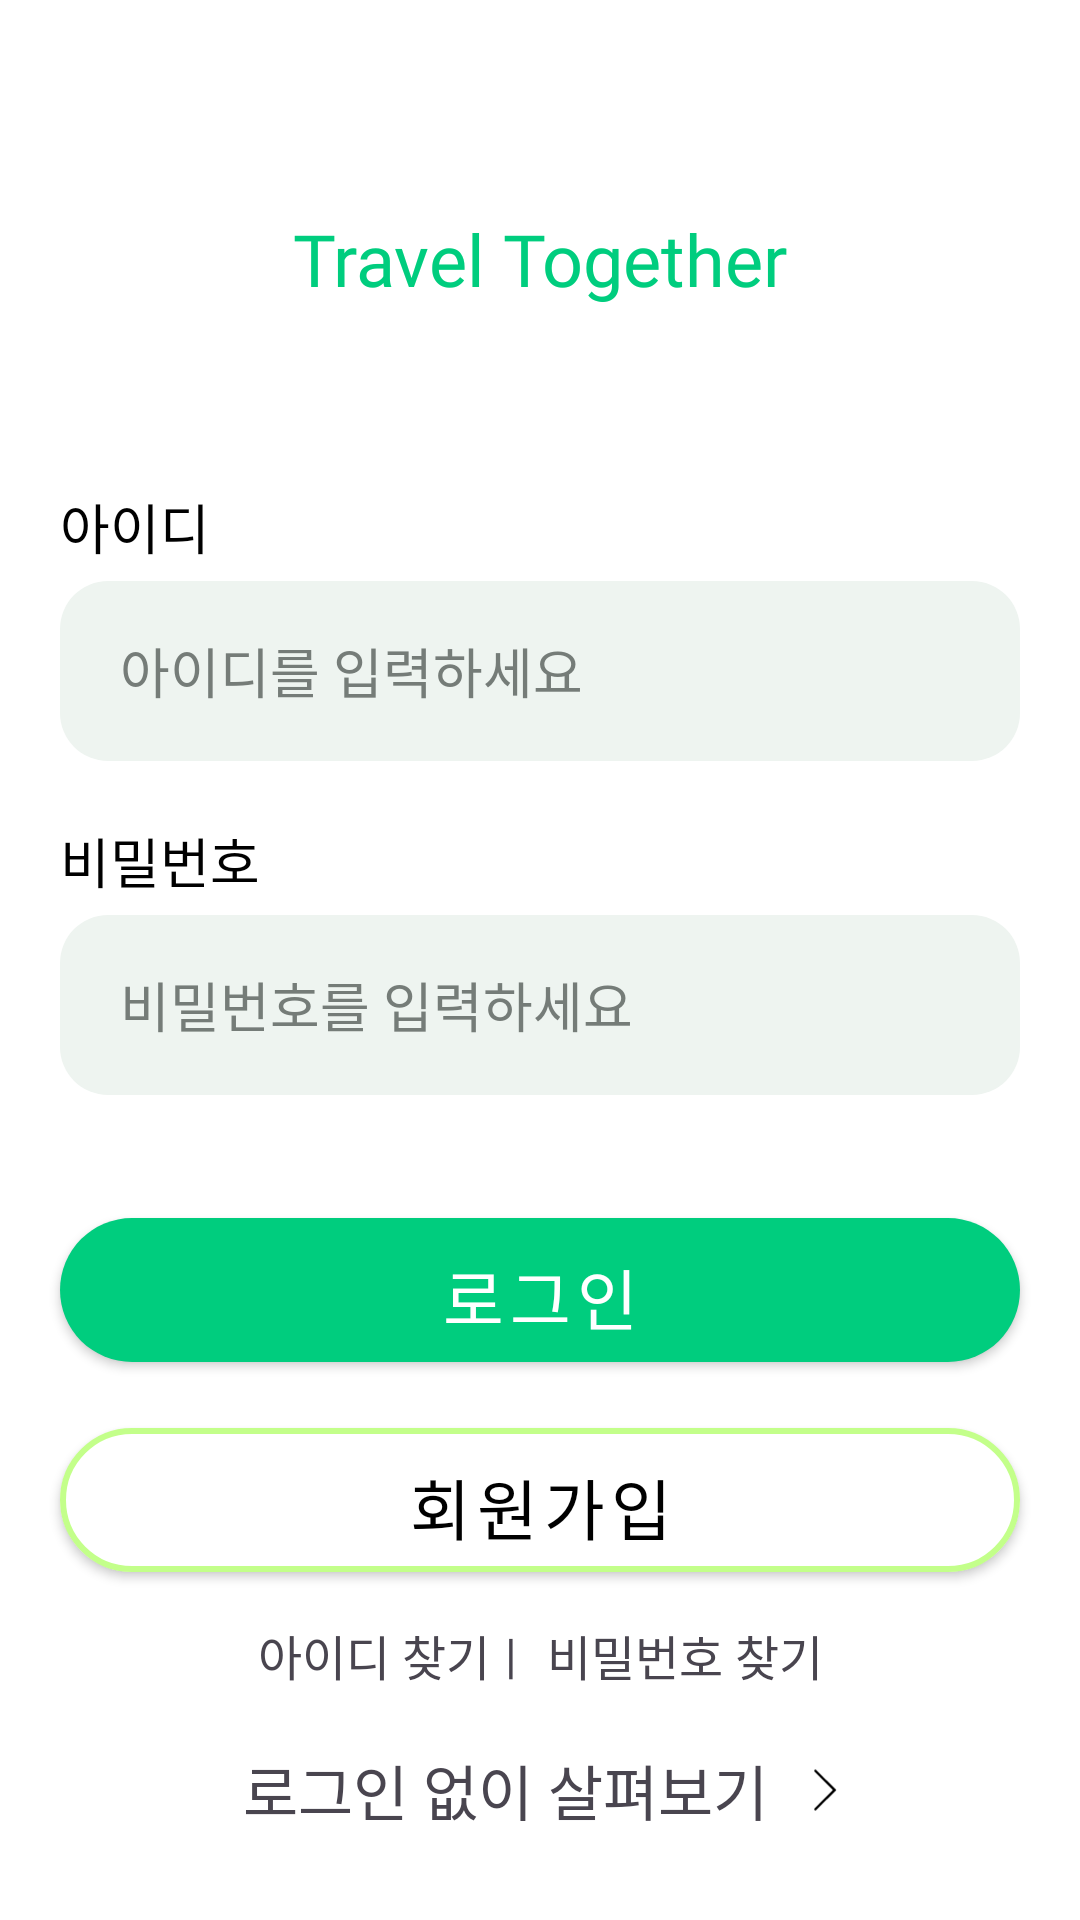

Point at icon controls on the screen. Image size 1080px×1920px, points as (x,y).
arrow next: (825,1790)
